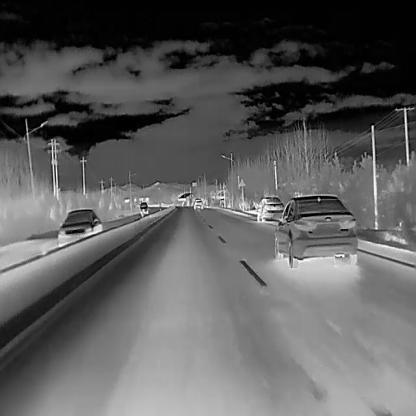car: (274, 194, 357, 268), (57, 207, 104, 248), (256, 196, 284, 222), (192, 198, 203, 210), (139, 201, 148, 215)
